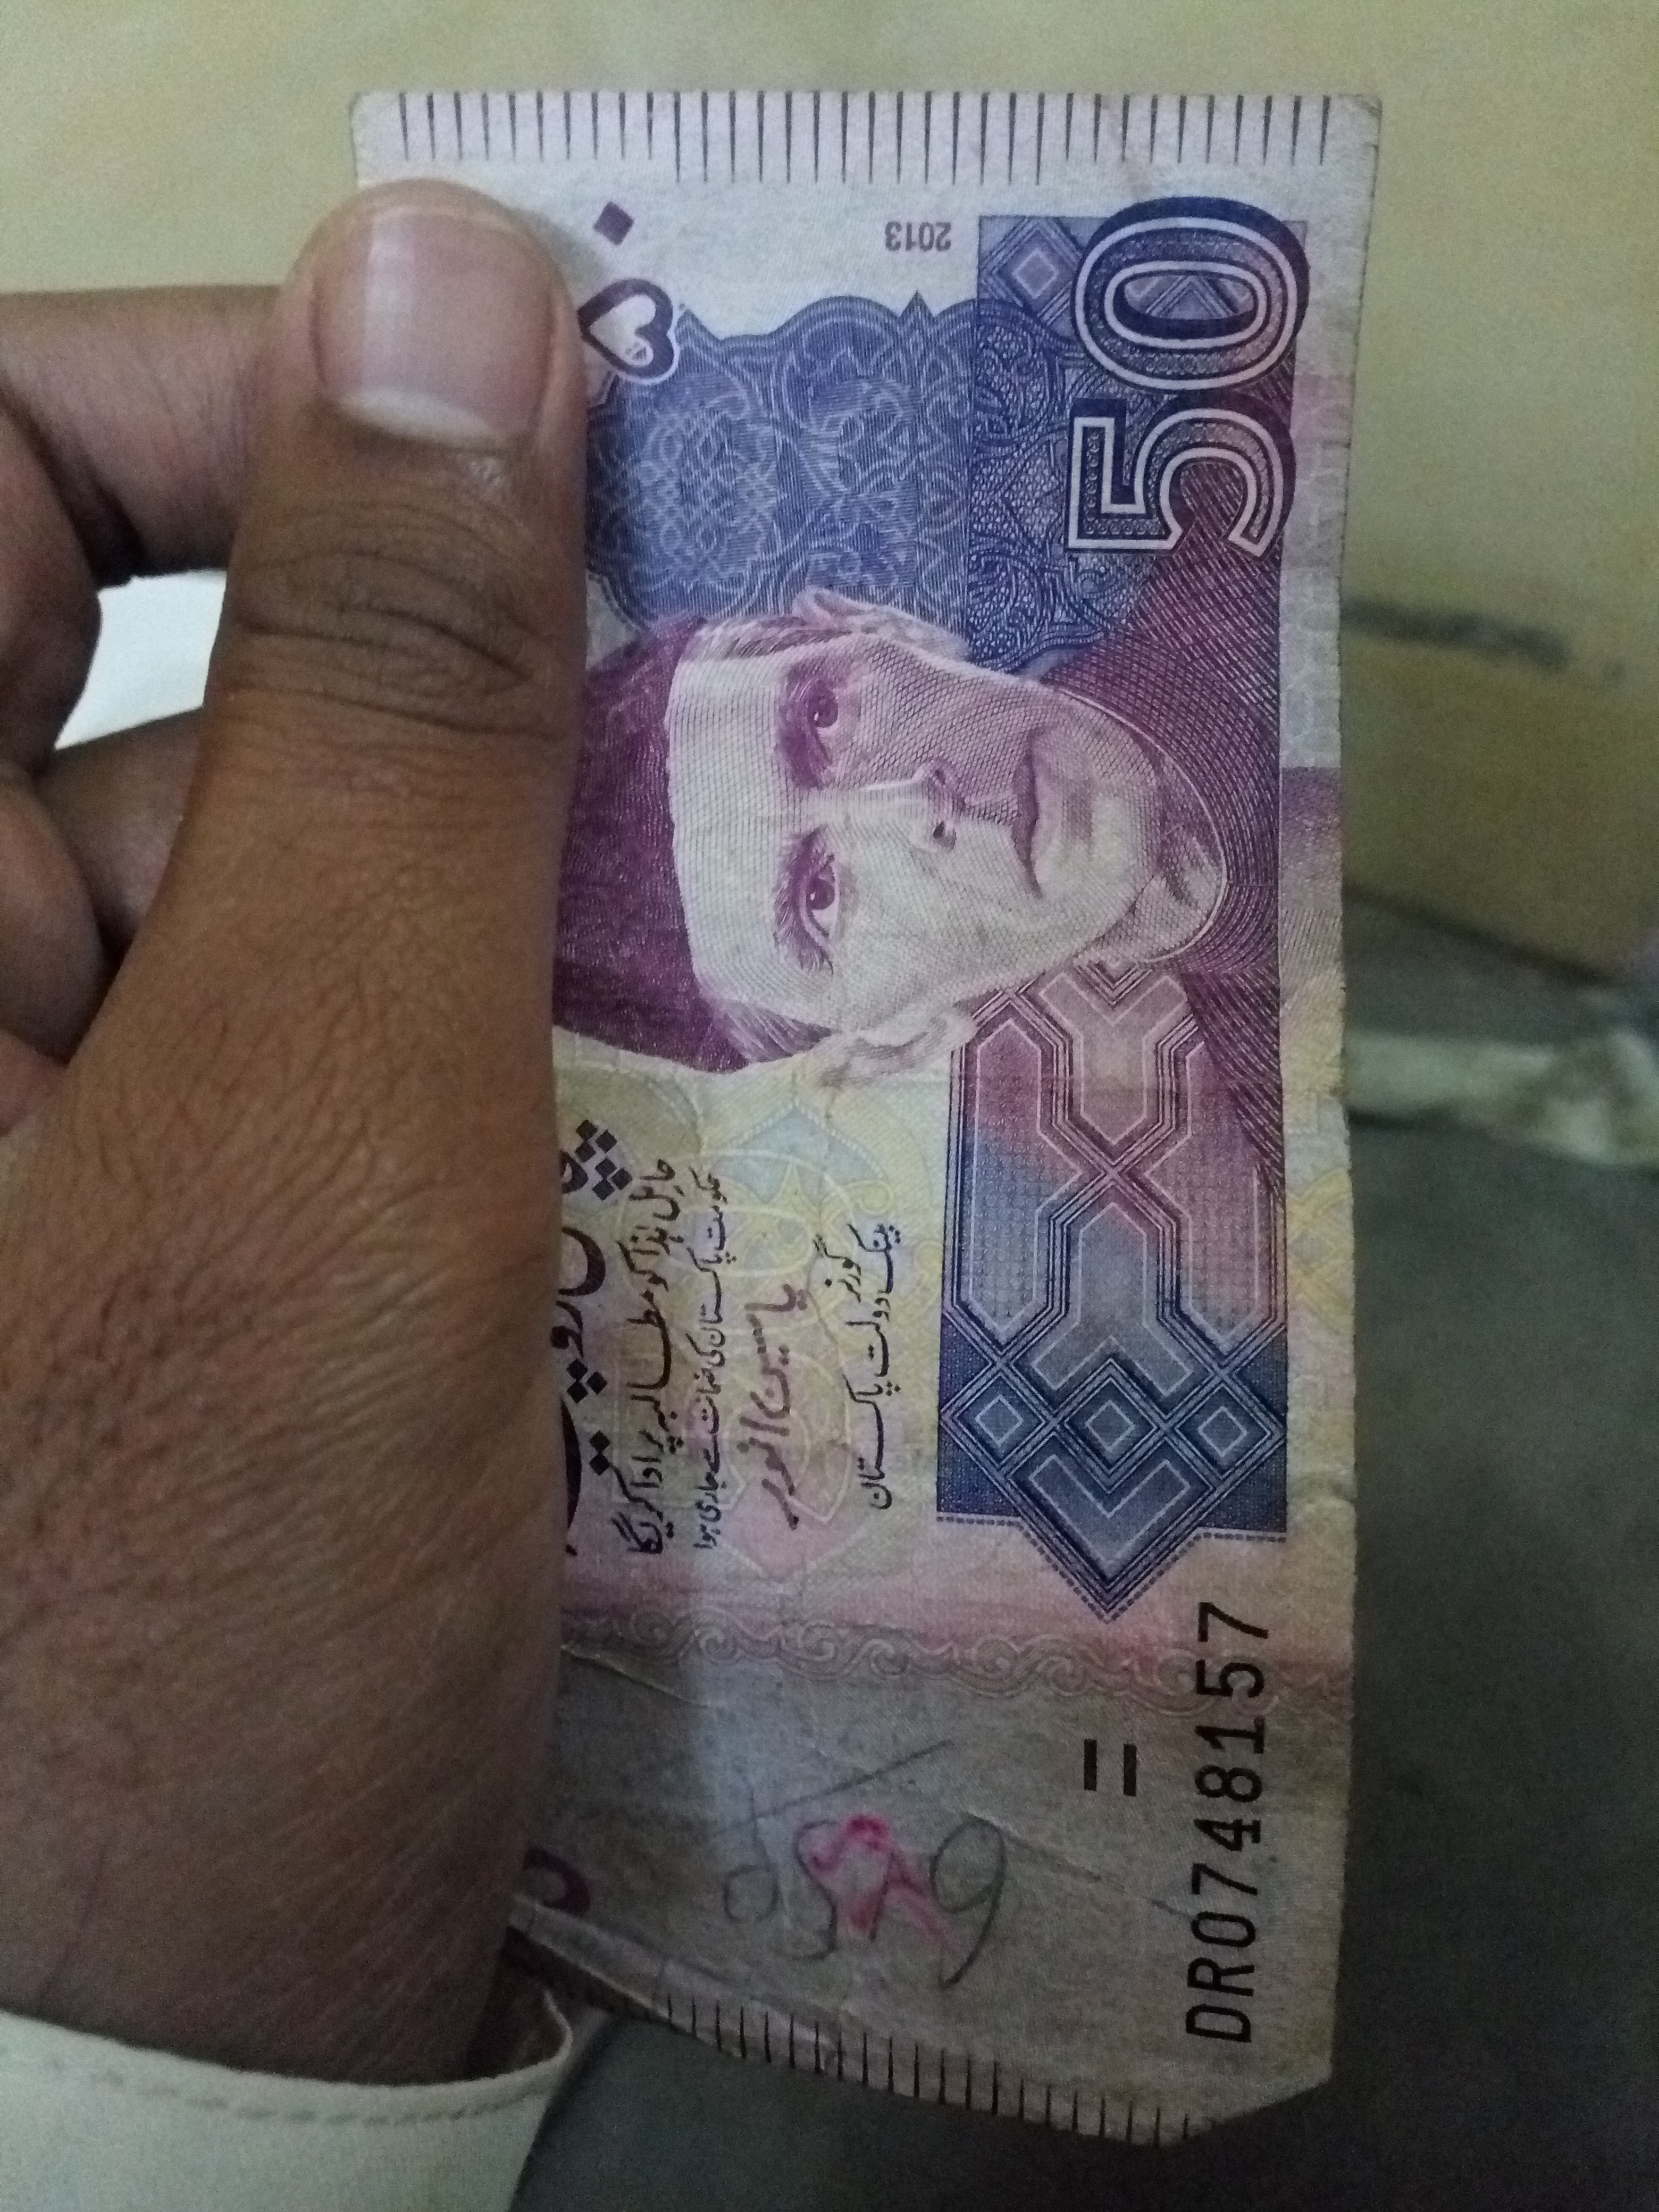50 rupee: (307, 47, 1460, 2174)
